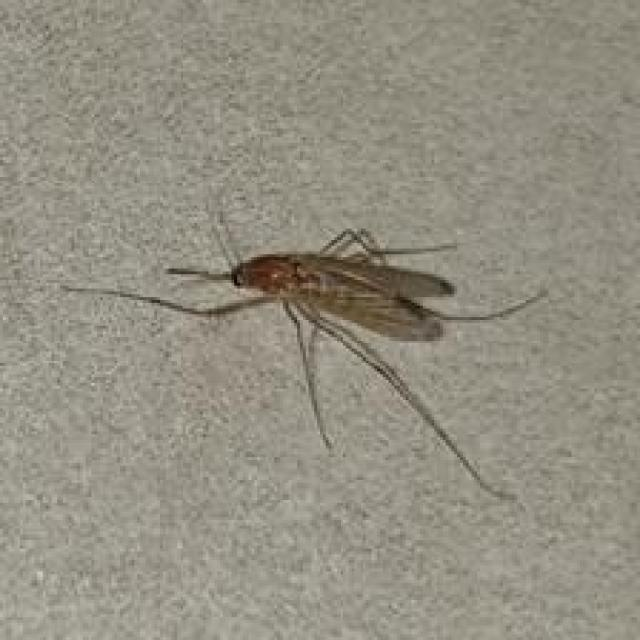Culex: (60, 200, 549, 506)
